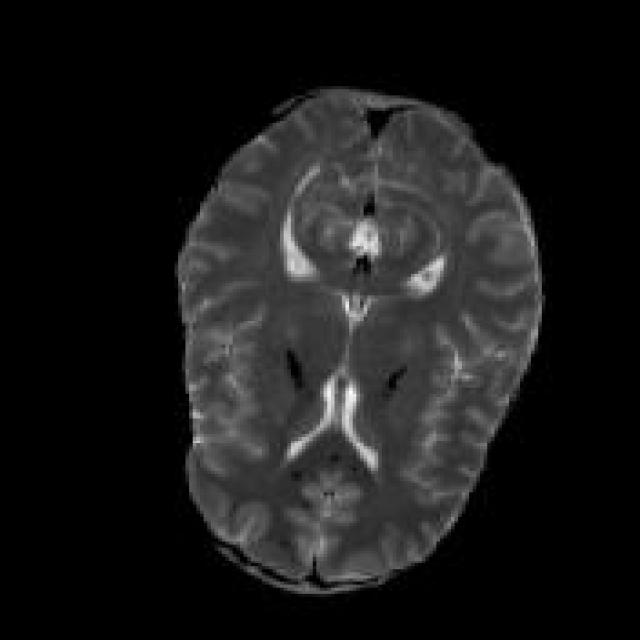CONTROL: (171, 83, 545, 594)
